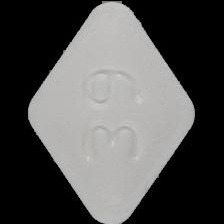54868-6078: (0, 0, 224, 224)
